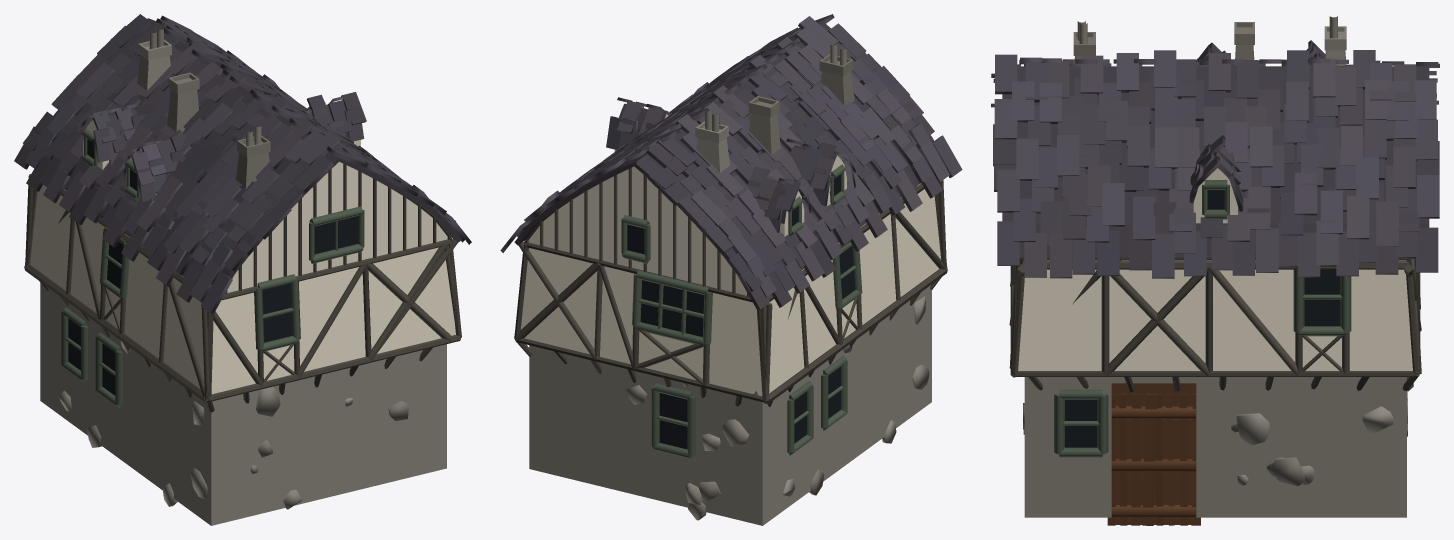
File: house_17.glb
3 renders of one model, left to right at view 1: azimuth 30°, elevation 25°; view 2: azimuth 150°, elevation 25°; view 3: azimuth 270°, elevation 25°, orthographic. The views are drawn at different scales.
Visible parts, largest first — view 1: house_17; view 2: house_17; view 3: house_17.
Boxes of the visible parts, x1,y1,x2,y2 form: house_17: (14,14,471,525); house_17: (500,14,962,525); house_17: (991,16,1439,525).
Bounding box in the file's own units: 5.09 × 6.94 × 6.51.
